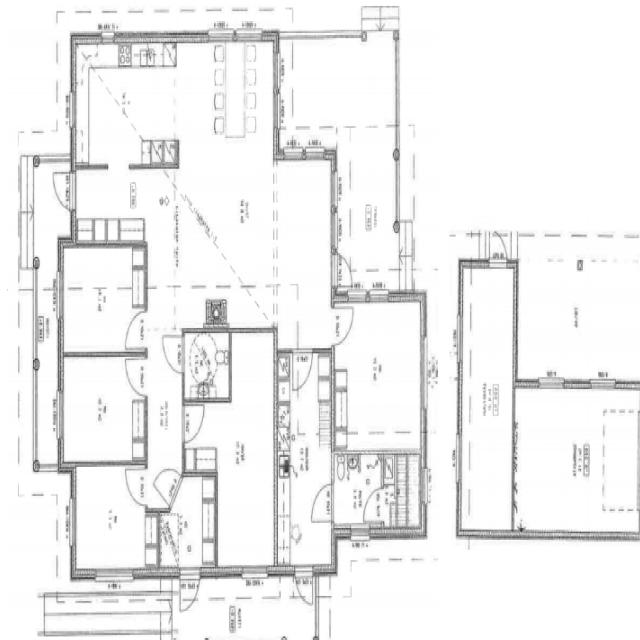door: (153, 456, 182, 508), (180, 564, 200, 616), (51, 173, 76, 209), (331, 308, 354, 345), (182, 406, 204, 444), (294, 564, 312, 610), (162, 336, 184, 373), (293, 349, 312, 391), (312, 486, 334, 522), (125, 312, 147, 348), (489, 226, 507, 268), (331, 254, 354, 286), (126, 471, 147, 506), (126, 361, 147, 395), (364, 489, 383, 522)
